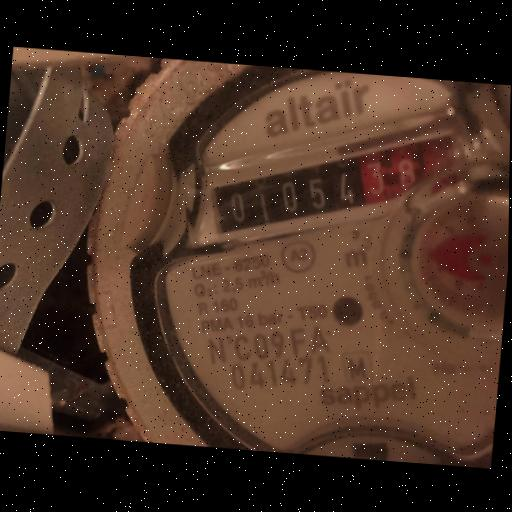0: (210, 179, 259, 236), (269, 168, 313, 224)
1: (245, 174, 283, 227)
3: (352, 148, 399, 207)
4: (323, 155, 370, 213)
5: (295, 162, 339, 218)
6: (415, 133, 459, 181)
8: (381, 139, 431, 202)
border_water_meter_number: (165, 95, 481, 281)
